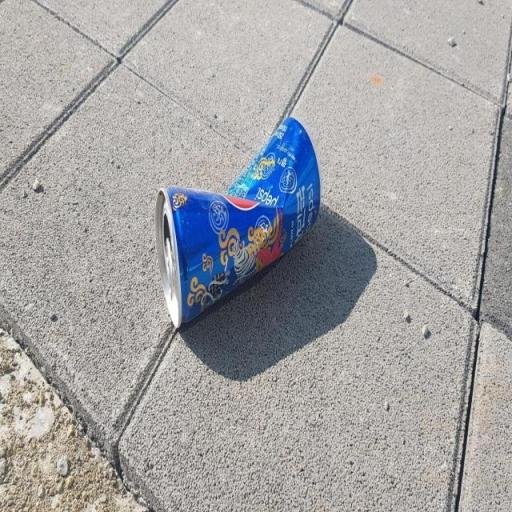metal: (144, 111, 348, 348)
